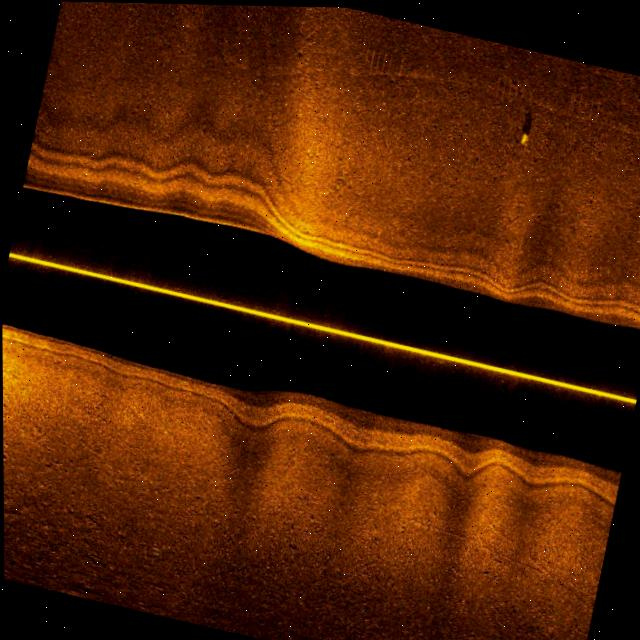mine: (515, 105, 539, 146)
